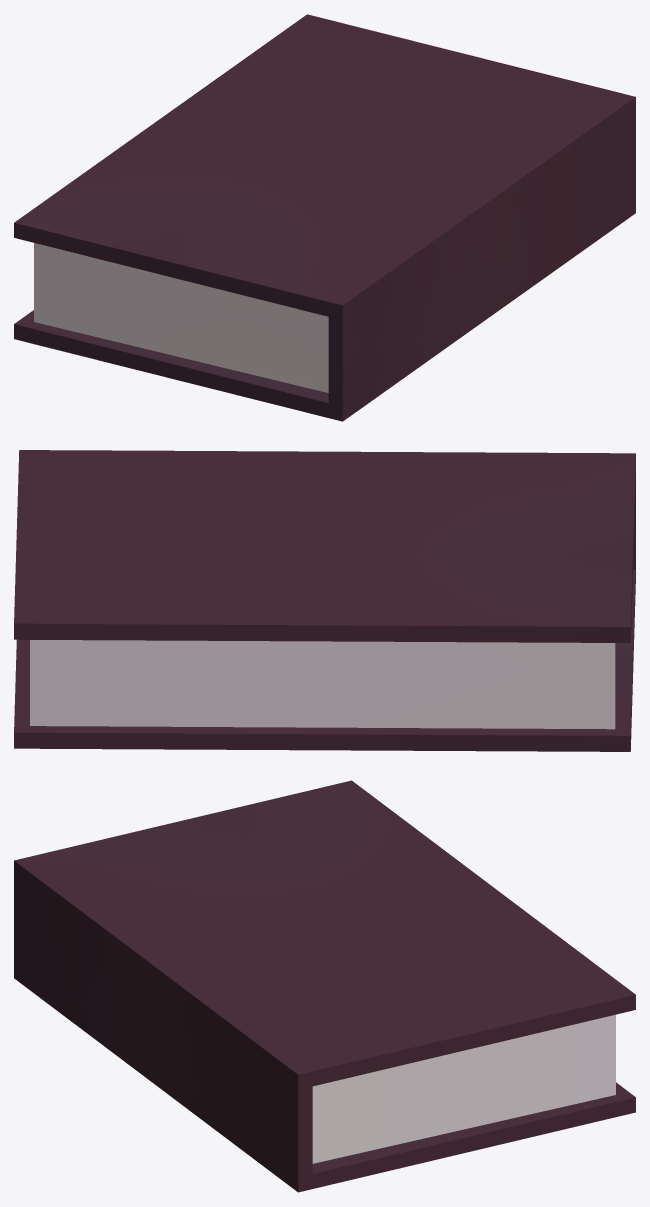
Rendered from book2.fbx.
3 views of the same model, one above another, from view 1: azimuth 30°, elevation 25°; view 2: azimuth 150°, elevation 25°; view 3: azimuth 270°, elevation 25° (orthographic). The views are drawn at different scales.
Parts seen in each view (by area): view 1: Cube.012; view 2: Cube.012; view 3: Cube.012.
Boxes of the visible parts, x1,y1,x2,y2 form: Cube.012: (14, 14, 635, 421); Cube.012: (14, 450, 635, 751); Cube.012: (14, 780, 635, 1192).
Bounding box in the file's own units: 62.53 × 11.67 × 55.86.
